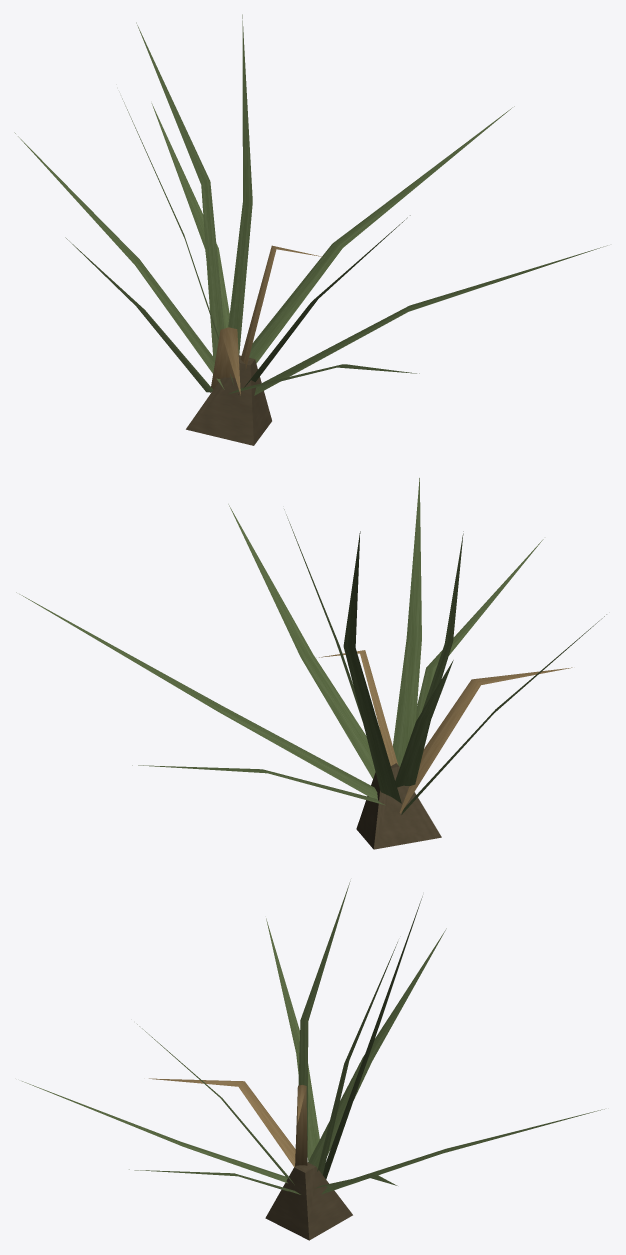
Rendered from SM_CN_Yucca_A_LOD2.fbx.
The picture shows the model from 3 angles, top to bottom: view 1: azimuth 30°, elevation 25°; view 2: azimuth 150°, elevation 25°; view 3: azimuth 270°, elevation 25°; orthographic projection. The views are drawn at different scales.
Visible parts, largest first — view 1: SM_CN_Yucca_A_LOD2; view 2: SM_CN_Yucca_A_LOD2; view 3: SM_CN_Yucca_A_LOD2.
Part boxes in pixels (box(x1,y1,x2,y2)): SM_CN_Yucca_A_LOD2: box(14, 14, 607, 445); SM_CN_Yucca_A_LOD2: box(16, 478, 606, 849); SM_CN_Yucca_A_LOD2: box(22, 881, 604, 1240).
Size of the model in its own units: 1.17 by 1.32 by 0.78.
